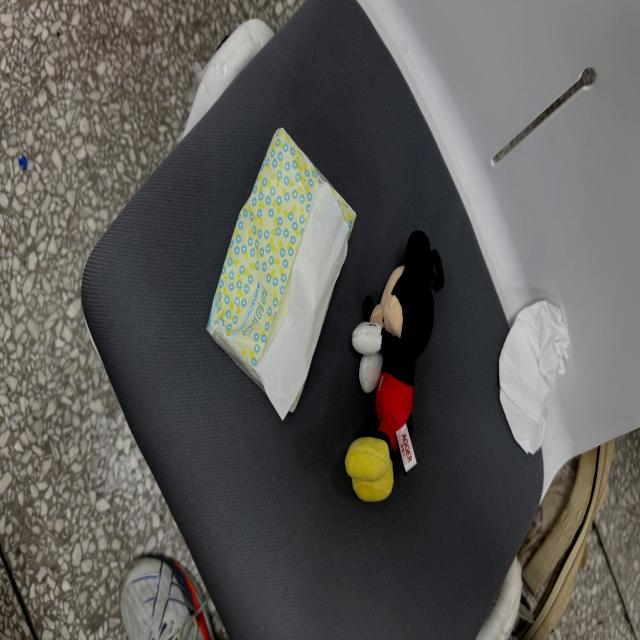mickey: (346, 231, 443, 501)
tissue: (207, 130, 355, 417), (207, 130, 355, 370), (256, 184, 348, 419), (499, 301, 569, 453)
